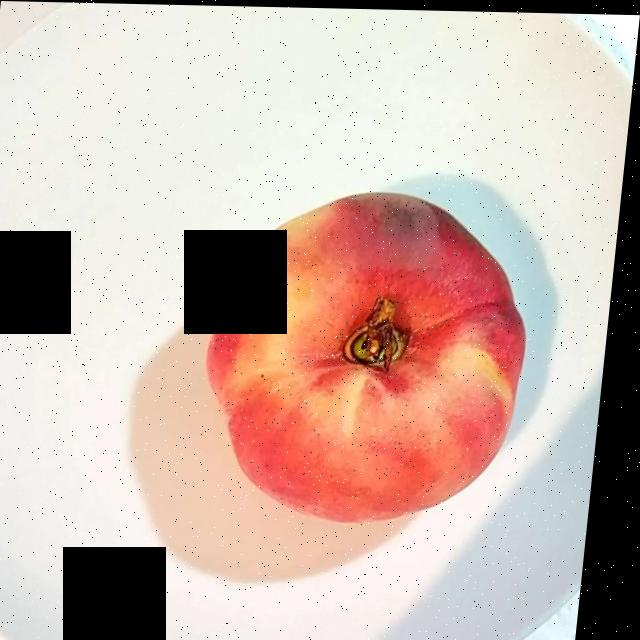peach: (220, 198, 529, 516)
